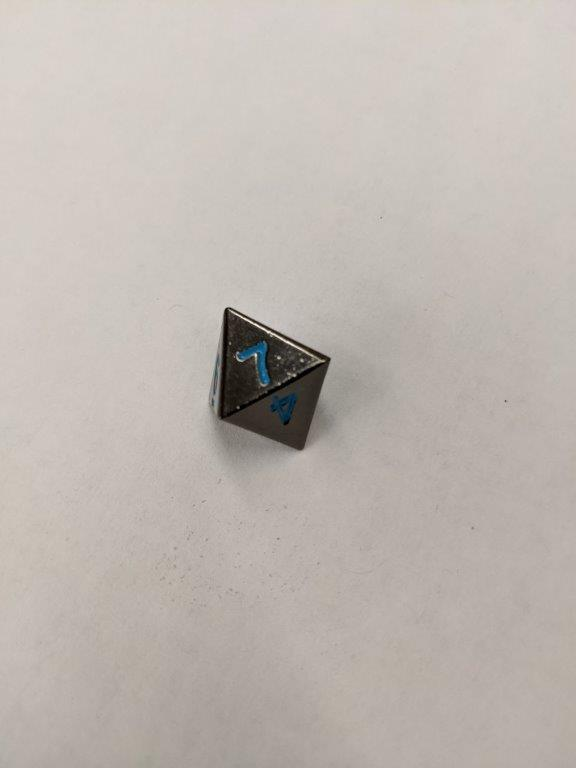d8-7: (210, 308, 330, 452)
